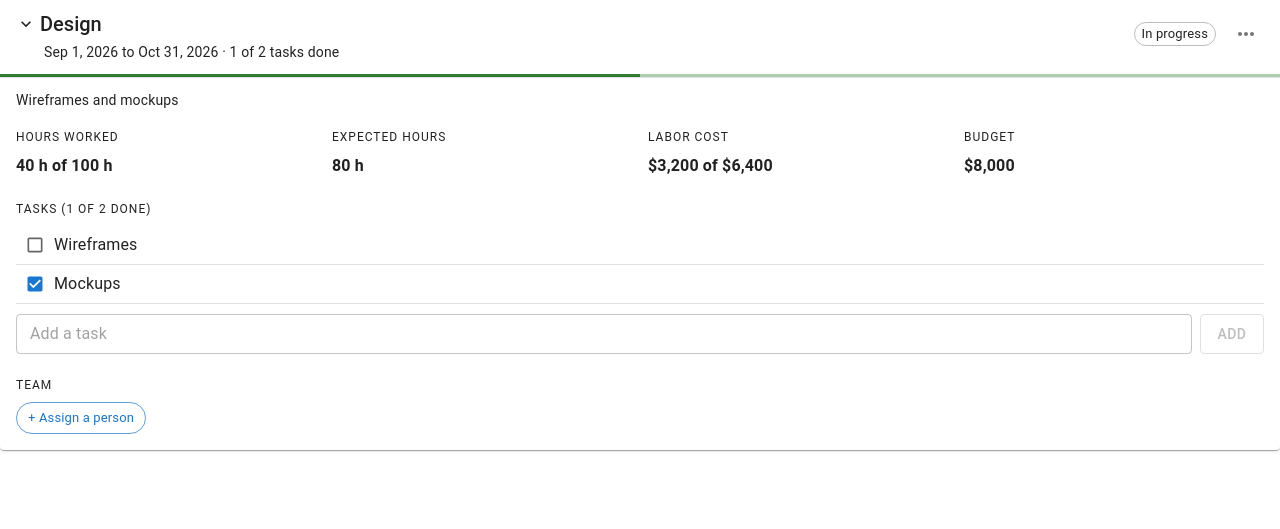
Test case: MilestoneCard: tasks › shows the server sentence when a tick is refused, and lets the person dismiss it
Click the checkbox labelled "Wireframes": (96, 244) [16, 226, 1264, 265]
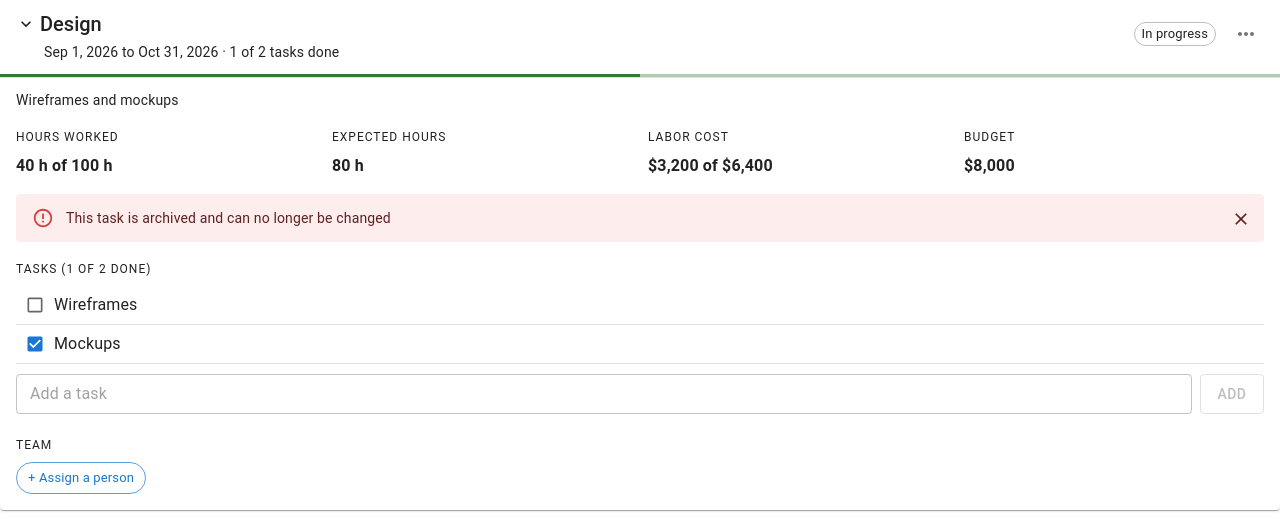
Now the message reads "This task is archived and can no longer be changed", box [66, 210, 391, 226]
Click the button named "close": (1241, 219) [1226, 204, 1256, 234]
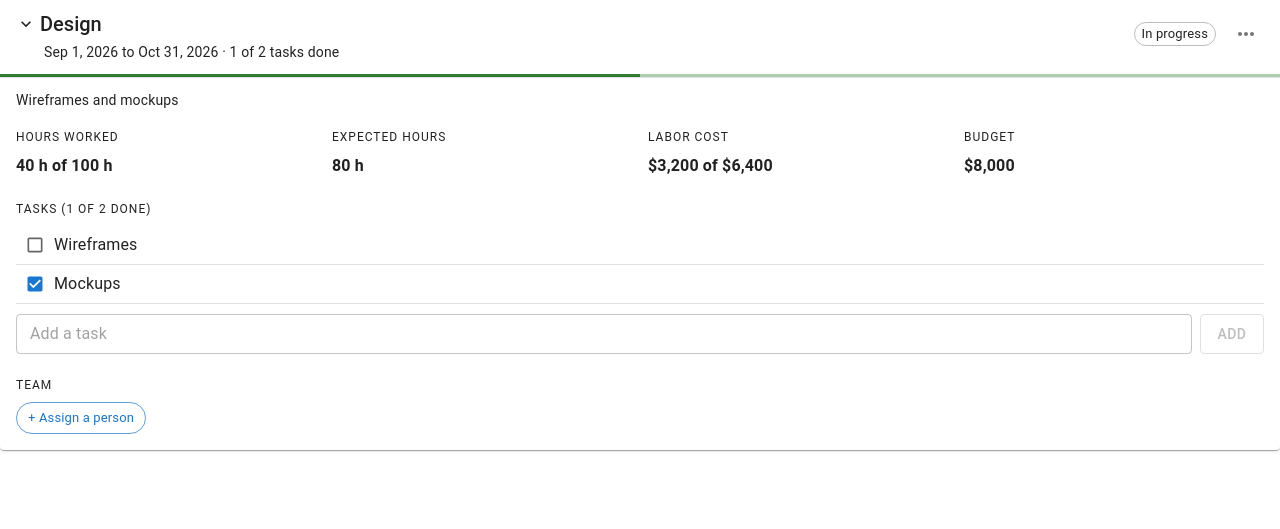
Now the message "This task is archived and can no longer be changed" is gone
